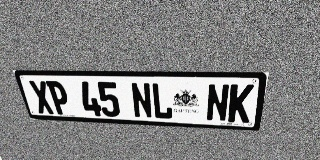4: (77, 81, 103, 116)
5: (97, 82, 121, 117)
K: (227, 84, 254, 123)
L: (151, 83, 173, 119)
N: (206, 84, 230, 122), (130, 82, 153, 119)
P: (45, 81, 72, 115)
X: (28, 81, 55, 114)
